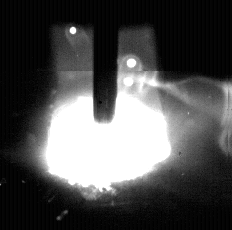arame: (94, 0, 118, 123)
poca: (45, 0, 171, 230)
